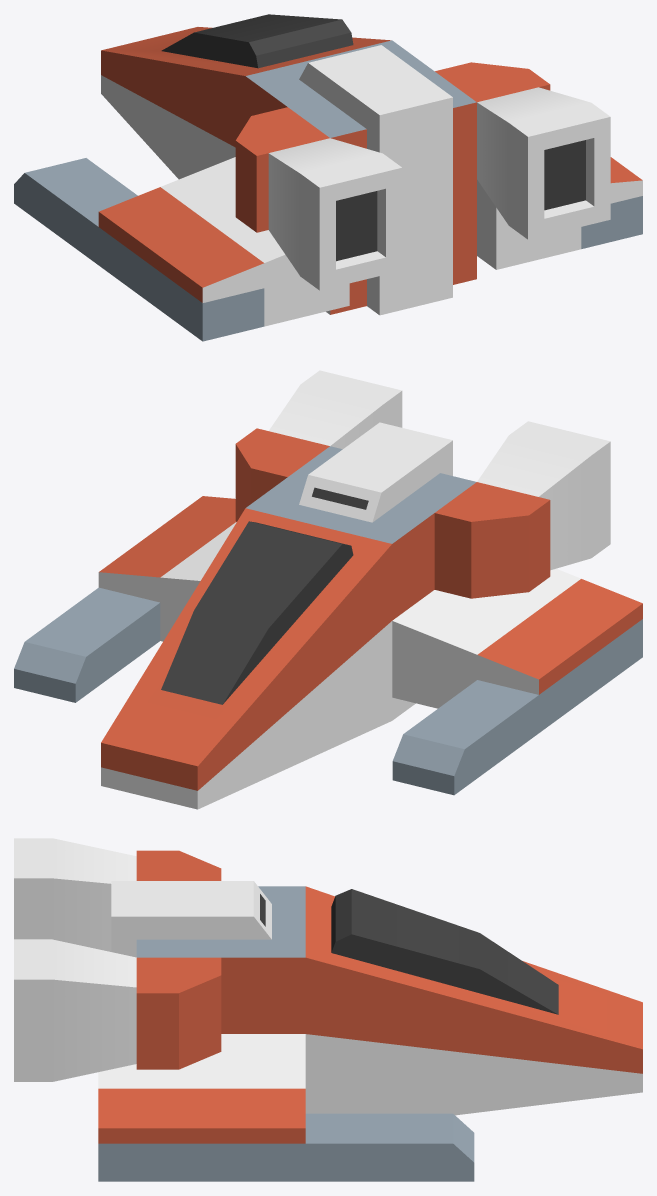
The model's file is spaceCraft3.glb.
3 views of the same model, one above another, from view 1: azimuth 30°, elevation 25°; view 2: azimuth 150°, elevation 25°; view 3: azimuth 270°, elevation 25° (orthographic).
Parts seen in each view (by area): view 1: spaceCraft3_8angles; view 2: spaceCraft3_8angles; view 3: spaceCraft3_8angles.
Part boxes in pixels (x1,y1,x2,y2): spaceCraft3_8angles: [14, 14, 642, 341]; spaceCraft3_8angles: [14, 370, 642, 809]; spaceCraft3_8angles: [14, 838, 642, 1181].
Size of the model in its own units: 11.85 by 5.15 by 14.72.
